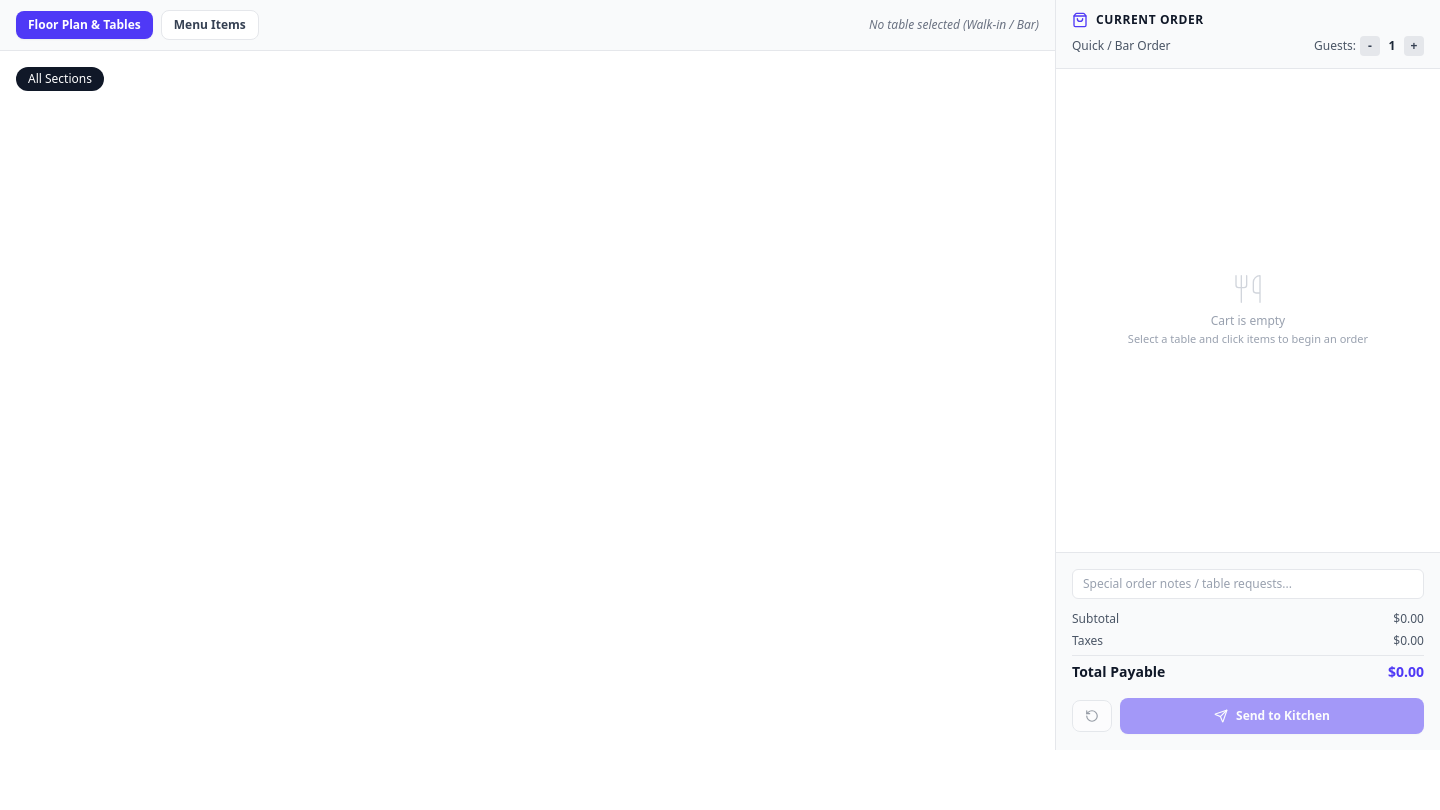
Test case: PosPage Component › REGRESSION: validates required modifier group before adding to order
Click the button "Menu Items" at (210, 25), box [161,10,259,40]
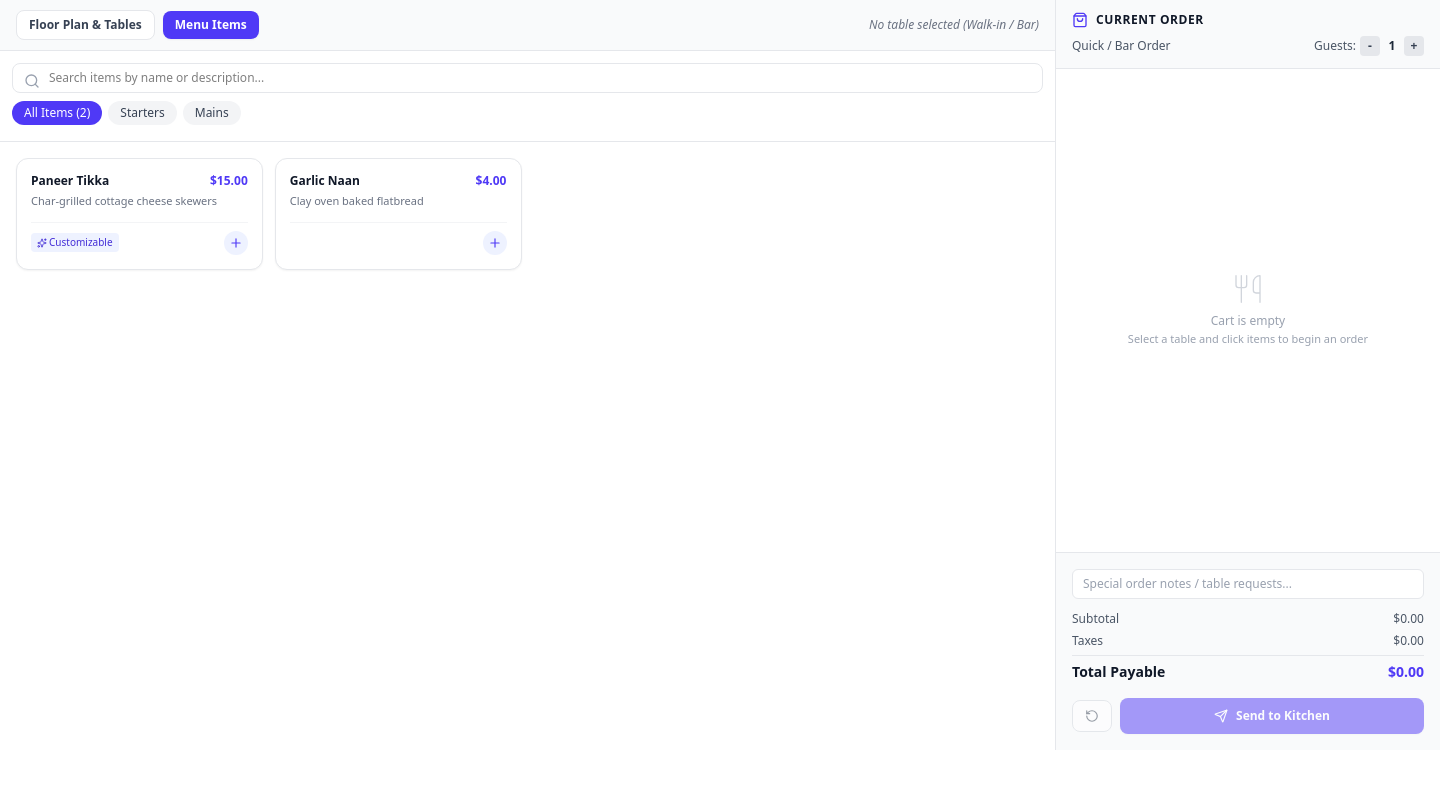
expect the heading "Paneer Tikka" is shown: met
Click the heading "Paneer Tikka" at (70, 181), box [31,173,109,189]
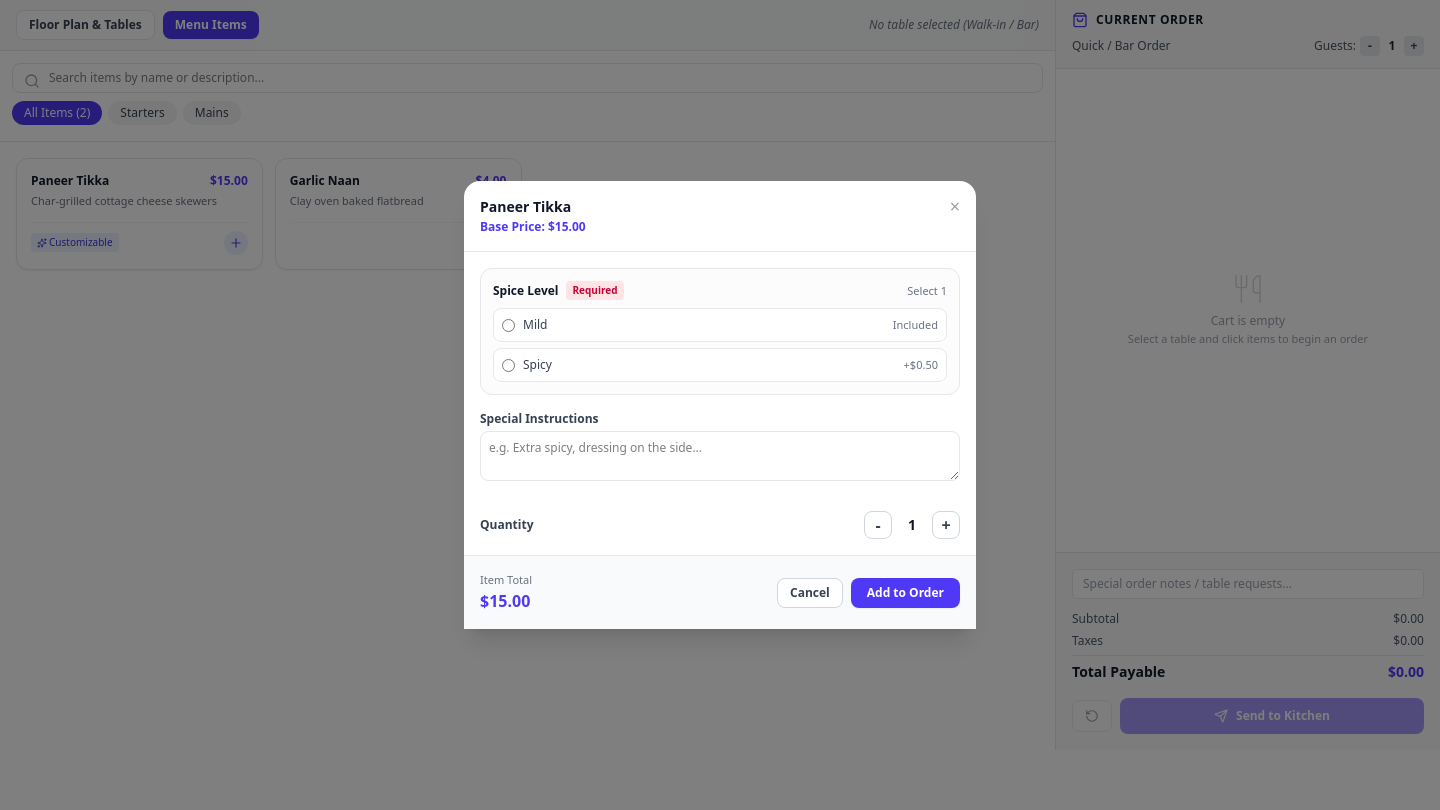
expect the button "Add to Order" is shown: met
// Try to add without selecting a required modifier
Click the button "Add to Order" at (905, 592), box [851,578,960,608]
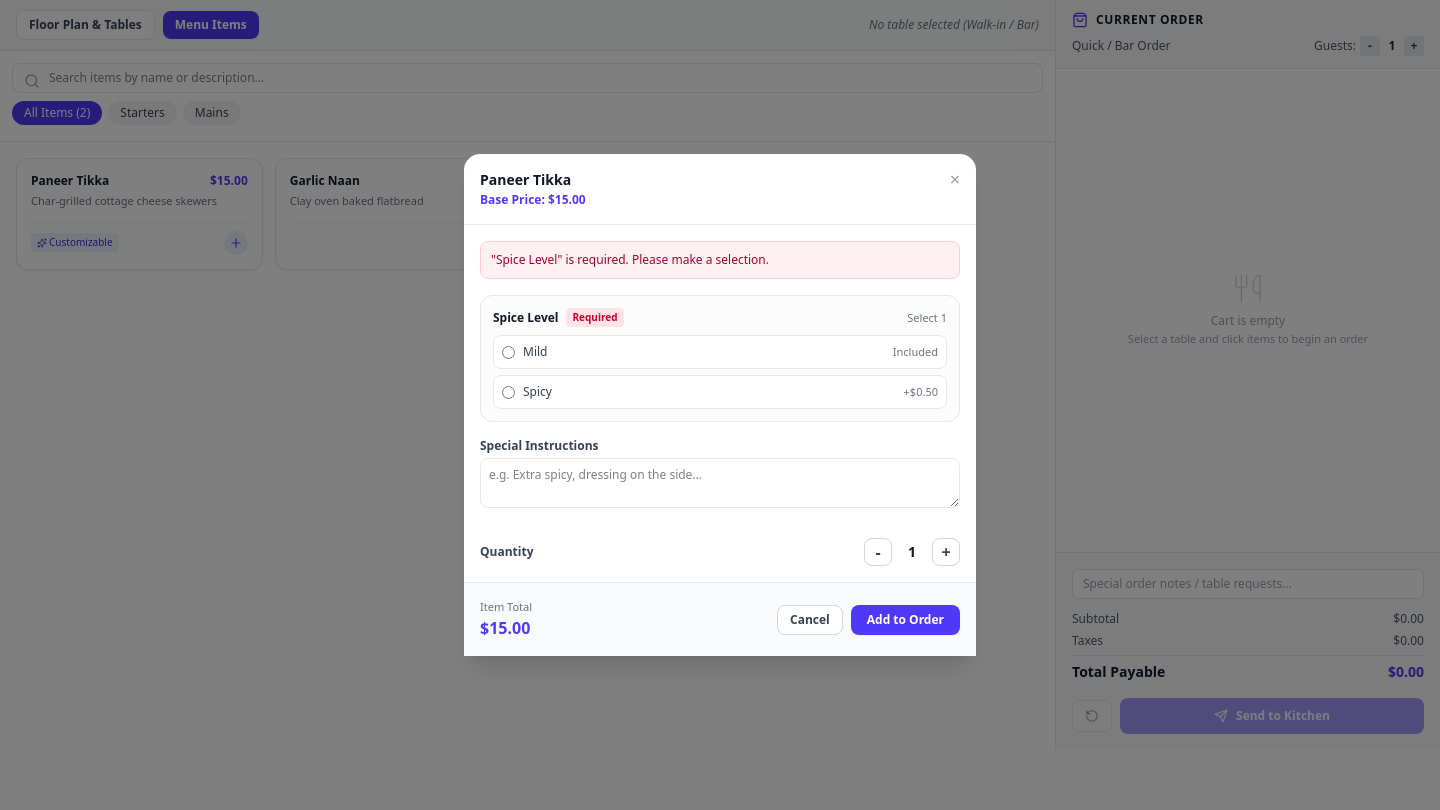
expect the text "\"Spice Level\" is required. Please make a selection." is shown: met, box [480,241,960,279]
